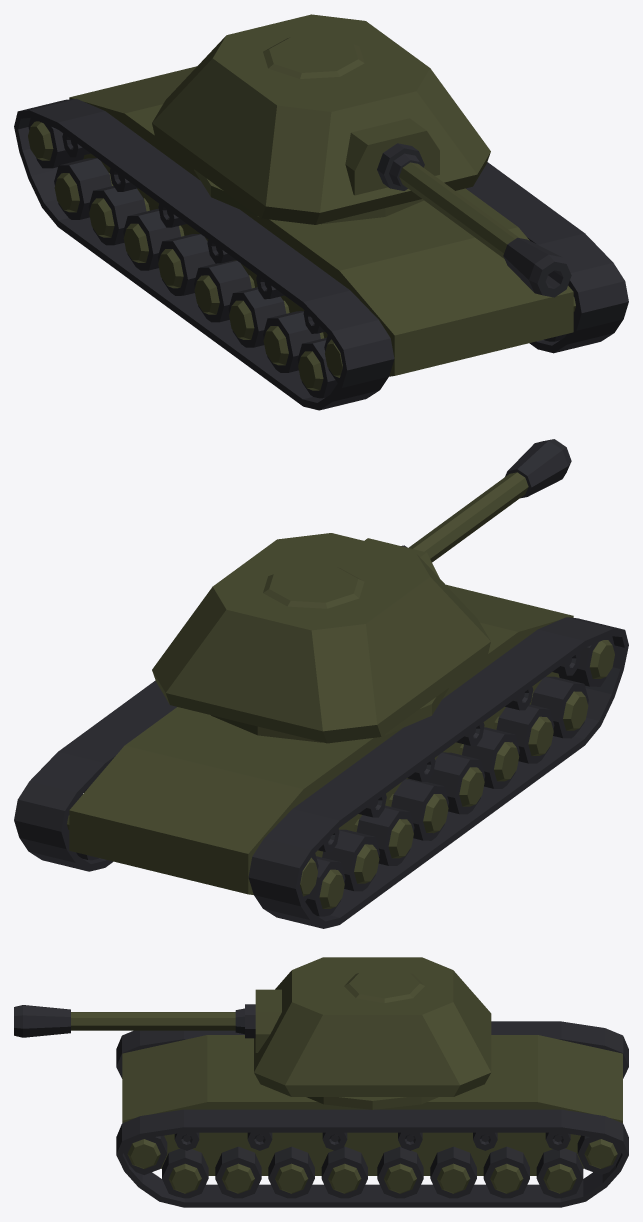
The model's file is LPWarPack_TankA.fbx.
The picture shows the model from 3 angles, top to bottom: view 1: azimuth 30°, elevation 25°; view 2: azimuth 150°, elevation 25°; view 3: azimuth 270°, elevation 25°; orthographic projection. The views are drawn at different scales.
Parts seen in each view (by area): view 1: TankA; view 2: TankA; view 3: TankA.
Boxes of the visible parts, x1=… form: TankA: x1=14, y1=14, x2=628, y2=410; TankA: x1=14, y1=439, x2=628, y2=928; TankA: x1=14, y1=957, x2=628, y2=1207.
Size of the model in its own units: 226 by 171 by 555.
